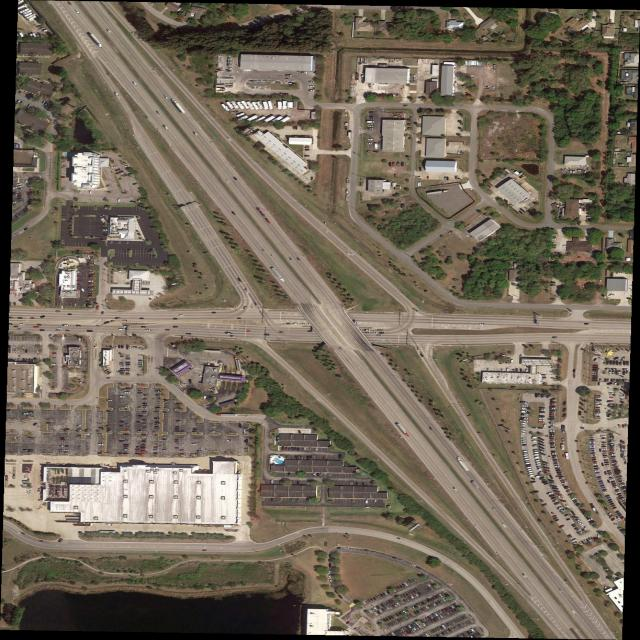large-vehicle: (271, 267, 287, 283), (171, 98, 186, 114), (456, 456, 470, 472), (89, 33, 103, 48), (396, 423, 410, 437), (426, 190, 450, 196), (234, 356, 242, 372), (470, 480, 480, 488), (227, 529, 240, 533), (349, 132, 353, 140), (562, 425, 566, 433), (623, 451, 627, 457), (375, 143, 378, 150), (566, 453, 569, 460), (392, 162, 396, 167), (346, 189, 350, 194), (401, 162, 405, 167), (346, 195, 349, 201), (596, 399, 602, 402), (346, 179, 350, 183), (397, 162, 400, 167), (389, 162, 392, 167), (446, 142, 449, 147), (562, 439, 565, 444), (419, 167, 422, 171), (446, 177, 449, 180), (395, 174, 397, 178), (461, 151, 463, 155), (458, 151, 460, 155), (427, 176, 429, 179), (444, 177, 446, 180), (563, 454, 565, 457)
ship: (577, 169, 588, 174)
small-vehicle: (162, 125, 170, 131), (504, 169, 512, 174), (244, 288, 250, 294), (539, 451, 546, 456), (519, 174, 526, 179), (578, 406, 585, 411), (548, 421, 555, 426), (556, 493, 564, 497), (58, 538, 64, 543), (338, 594, 344, 599), (549, 474, 554, 480), (487, 182, 493, 187), (470, 628, 476, 633), (571, 609, 577, 614), (18, 27, 25, 31), (558, 496, 565, 500), (539, 449, 546, 453), (558, 525, 565, 529), (572, 515, 579, 519), (577, 522, 584, 526), (566, 308, 573, 312), (538, 446, 545, 450), (538, 440, 545, 444), (538, 437, 545, 441), (193, 131, 198, 136), (233, 176, 238, 181), (256, 207, 261, 212), (237, 277, 242, 282), (254, 303, 259, 308), (381, 608, 386, 613), (369, 609, 374, 614), (378, 604, 383, 609), (391, 599, 396, 604), (439, 593, 444, 598), (453, 487, 458, 492), (410, 590, 415, 595), (380, 593, 385, 598), (164, 95, 169, 100), (75, 9, 80, 14), (565, 504, 570, 509), (571, 511, 576, 516), (21, 531, 26, 536), (338, 454, 343, 459), (616, 516, 621, 521), (486, 184, 491, 189), (411, 628, 416, 633), (431, 613, 436, 618), (425, 633, 430, 638), (562, 413, 567, 418), (620, 392, 625, 397), (413, 308, 419, 312), (104, 321, 110, 325), (132, 82, 138, 86), (67, 1, 73, 5), (32, 422, 38, 426), (544, 466, 550, 470), (543, 463, 549, 467), (587, 518, 593, 522), (570, 497, 576, 501), (542, 503, 548, 507), (539, 476, 545, 480), (557, 506, 563, 510), (601, 486, 607, 490), (560, 169, 566, 173), (503, 199, 509, 203), (493, 64, 497, 70), (522, 574, 528, 578), (558, 589, 564, 593), (422, 623, 428, 627), (401, 632, 407, 636), (579, 402, 585, 406), (616, 382, 622, 386), (607, 382, 613, 386), (369, 111, 376, 114), (171, 463, 178, 466), (123, 433, 130, 436), (544, 469, 551, 472), (548, 479, 555, 482), (549, 482, 556, 485), (542, 461, 549, 464), (571, 539, 578, 542), (525, 464, 532, 467), (535, 475, 542, 478), (560, 499, 567, 502), (575, 519, 582, 522), (524, 458, 531, 461), (538, 443, 545, 446), (592, 364, 599, 367), (227, 137, 232, 141), (232, 211, 237, 215), (266, 220, 271, 224), (259, 211, 264, 215), (288, 256, 293, 260), (243, 306, 248, 310), (324, 542, 328, 547), (374, 606, 378, 611), (390, 615, 395, 619), (379, 609, 384, 613), (403, 599, 408, 603), (376, 611, 381, 615), (374, 612, 379, 616), (371, 608, 376, 612), (402, 610, 407, 614), (391, 604, 396, 608), (413, 594, 418, 598), (408, 596, 413, 600), (411, 595, 416, 599), (396, 602, 401, 606), (433, 602, 437, 607), (401, 616, 406, 620), (413, 611, 418, 615), (418, 609, 423, 613), (420, 608, 425, 612), (423, 607, 428, 611), (398, 612, 403, 616), (437, 600, 442, 604), (442, 598, 447, 602), (436, 595, 441, 599), (414, 605, 419, 609), (412, 606, 417, 610), (400, 595, 405, 599), (403, 594, 408, 598), (334, 590, 339, 594), (331, 585, 335, 590), (400, 558, 405, 562), (340, 348, 345, 352), (417, 577, 422, 581), (414, 578, 419, 582), (411, 579, 416, 583), (412, 589, 417, 593), (430, 586, 434, 591), (382, 592, 387, 596), (385, 591, 389, 596), (409, 580, 414, 584), (88, 336, 93, 340), (119, 170, 124, 174), (156, 111, 161, 115), (44, 102, 49, 106), (27, 104, 31, 109), (16, 100, 21, 104), (106, 29, 111, 33), (15, 215, 20, 219), (23, 209, 28, 213), (200, 395, 205, 399), (392, 621, 397, 625), (592, 508, 597, 512), (604, 506, 608, 511), (580, 508, 585, 512), (589, 520, 594, 524), (566, 489, 571, 493), (390, 622, 395, 626), (588, 537, 592, 542), (583, 540, 588, 544), (502, 524, 507, 528), (492, 507, 497, 511), (551, 496, 556, 500), (573, 525, 578, 529), (345, 126, 349, 131), (224, 365, 228, 370), (81, 287, 85, 292), (565, 169, 570, 173), (520, 208, 525, 212), (529, 204, 534, 208), (509, 204, 514, 208), (519, 201, 524, 205), (502, 172, 507, 176), (498, 175, 503, 179), (510, 359, 514, 364), (505, 359, 509, 364), (582, 207, 586, 212), (404, 631, 408, 636), (427, 616, 432, 620), (422, 618, 427, 622), (418, 625, 423, 629), (413, 627, 418, 631), (406, 630, 411, 634), (447, 628, 452, 632), (400, 628, 405, 632), (391, 632, 396, 636), (434, 613, 439, 617), (437, 612, 442, 616), (462, 622, 467, 626), (430, 631, 435, 635), (435, 628, 440, 632), (437, 627, 442, 631), (442, 625, 447, 629), (461, 616, 466, 620), (437, 616, 442, 620), (442, 613, 446, 618), (449, 611, 454, 615), (453, 604, 458, 608), (446, 607, 451, 611), (441, 609, 446, 613), (579, 397, 584, 401), (563, 401, 567, 406), (620, 400, 625, 404), (617, 424, 622, 428), (625, 348, 630, 352), (620, 348, 625, 352), (616, 348, 621, 352), (621, 357, 626, 361), (593, 358, 598, 362), (619, 395, 624, 399), (304, 155, 310, 158), (246, 330, 252, 333), (411, 564, 417, 567), (40, 315, 46, 318), (115, 169, 121, 172), (192, 443, 198, 446), (107, 429, 113, 432), (105, 452, 111, 455), (155, 390, 161, 393), (64, 428, 70, 431), (551, 485, 557, 488), (554, 490, 560, 493), (614, 523, 620, 526), (618, 527, 624, 530), (568, 494, 574, 497), (556, 471, 562, 474), (534, 453, 540, 456), (530, 480, 536, 483), (528, 472, 534, 475), (526, 466, 532, 469), (552, 499, 558, 502), (542, 480, 548, 483), (548, 492, 554, 495), (549, 494, 555, 497), (554, 502, 560, 505), (559, 509, 565, 512), (612, 462, 618, 465), (613, 487, 619, 490), (616, 476, 622, 479), (39, 540, 45, 543), (619, 484, 625, 487), (592, 461, 598, 464), (598, 480, 604, 483), (602, 488, 608, 491), (604, 461, 610, 464), (551, 244, 557, 247), (414, 622, 420, 625), (548, 426, 554, 429), (521, 430, 527, 433), (523, 454, 529, 457), (532, 436, 538, 439), (619, 398, 625, 401), (613, 357, 619, 360), (573, 373, 576, 379), (550, 398, 556, 401), (381, 93, 385, 97), (262, 214, 266, 218), (377, 330, 385, 332), (367, 121, 375, 123), (296, 257, 300, 261), (395, 620, 399, 624), (262, 249, 266, 253), (388, 616, 392, 620), (386, 617, 390, 621), (383, 618, 387, 622), (384, 607, 388, 611), (376, 606, 380, 610), (386, 606, 390, 610), (394, 603, 398, 607), (389, 600, 393, 604), (396, 613, 400, 617), (401, 611, 405, 615), (399, 617, 403, 621), (405, 615, 409, 619), (407, 614, 411, 618), (409, 613, 413, 617), (428, 604, 432, 608), (435, 601, 439, 605), (440, 599, 444, 603), (445, 597, 449, 601), (417, 604, 421, 608), (394, 598, 398, 602), (346, 621, 350, 625), (420, 353, 424, 357), (417, 348, 421, 352), (354, 627, 358, 631), (418, 592, 422, 596), (427, 587, 431, 591), (363, 601, 367, 605), (375, 596, 379, 600), (387, 590, 391, 594), (399, 584, 403, 588), (407, 582, 411, 586), (47, 103, 51, 107), (42, 101, 46, 105), (20, 101, 24, 105), (115, 92, 119, 96), (397, 618, 401, 622), (608, 513, 612, 517), (609, 515, 613, 519), (586, 539, 590, 543), (581, 540, 585, 544), (565, 513, 569, 517), (620, 515, 624, 519), (356, 482, 360, 486), (86, 301, 94, 303), (306, 127, 310, 131), (619, 502, 623, 506), (622, 506, 626, 510), (597, 513, 601, 517), (604, 471, 608, 475), (519, 210, 523, 214), (462, 633, 466, 637), (467, 631, 471, 635), (521, 405, 529, 407), (521, 402, 529, 404), (569, 314, 573, 318), (441, 631, 445, 635), (433, 618, 437, 622), (430, 619, 434, 623), (416, 626, 420, 630), (408, 625, 412, 629), (403, 627, 407, 631), (398, 629, 402, 633), (388, 623, 392, 627), (430, 615, 434, 619), (432, 630, 436, 634), (447, 623, 451, 627), (435, 617, 439, 621), (446, 611, 450, 615), (454, 608, 458, 612), (444, 608, 448, 612), (613, 382, 617, 386), (376, 93, 379, 98), (379, 93, 382, 98), (298, 455, 301, 460), (271, 480, 274, 485), (307, 481, 310, 486), (199, 381, 204, 384), (208, 363, 211, 368), (65, 445, 70, 448), (393, 615, 398, 618), (381, 604, 386, 607), (389, 606, 394, 609), (425, 606, 430, 609), (433, 596, 438, 599), (442, 593, 447, 596), (396, 537, 401, 540), (406, 593, 411, 596), (427, 584, 432, 587), (367, 599, 372, 602), (394, 587, 399, 590), (126, 345, 129, 350), (28, 358, 31, 363), (124, 165, 129, 168), (87, 255, 90, 260), (17, 195, 22, 198), (18, 185, 23, 188), (175, 447, 180, 450), (85, 429, 90, 432), (204, 395, 207, 400), (135, 448, 140, 451), (189, 379, 192, 384), (28, 436, 33, 439), (609, 19, 612, 24), (582, 511, 587, 514), (574, 501, 579, 504), (572, 499, 577, 502), (565, 488, 570, 491), (558, 473, 563, 476), (573, 542, 578, 545), (568, 536, 573, 539), (553, 517, 558, 520), (552, 515, 557, 518), (540, 499, 545, 502), (531, 477, 536, 480), (577, 531, 582, 534), (544, 482, 549, 485), (577, 529, 582, 532), (566, 518, 571, 521), (571, 523, 576, 526), (616, 512, 621, 515), (618, 514, 623, 517), (614, 468, 619, 471), (616, 474, 621, 477), (618, 495, 623, 498), (617, 493, 622, 496), (616, 491, 621, 494), (615, 489, 620, 492), (362, 482, 365, 487), (83, 303, 86, 308), (612, 484, 617, 487), (600, 484, 605, 487), (597, 476, 602, 479), (599, 482, 604, 485), (603, 490, 608, 493), (609, 501, 614, 504), (611, 504, 616, 507), (609, 476, 614, 479), (607, 470, 612, 473), (602, 448, 607, 451), (599, 448, 602, 453), (590, 441, 595, 444), (590, 443, 595, 446), (524, 207, 529, 210), (524, 198, 529, 201), (499, 174, 504, 177), (469, 631, 474, 634), (507, 368, 510, 373), (520, 368, 523, 373), (500, 359, 503, 364), (501, 368, 504, 373), (425, 622, 430, 625), (412, 623, 417, 626), (389, 633, 394, 636), (460, 624, 465, 627), (524, 456, 529, 459), (521, 432, 526, 435), (544, 424, 547, 429), (523, 450, 528, 453), (623, 417, 628, 420), (609, 392, 614, 395), (606, 360, 609, 365), (616, 360, 619, 365), (541, 393, 544, 398), (615, 370, 618, 375), (612, 370, 615, 375), (609, 370, 612, 375), (286, 75, 293, 77), (356, 329, 363, 331), (87, 330, 94, 332), (124, 326, 131, 328), (119, 328, 126, 330), (33, 326, 40, 328), (88, 272, 95, 274), (63, 433, 70, 435), (552, 488, 559, 490), (614, 470, 621, 472), (615, 472, 622, 474), (161, 420, 168, 422), (521, 408, 528, 410), (549, 408, 556, 410), (538, 420, 545, 422), (365, 332, 371, 334), (309, 81, 315, 83), (487, 62, 490, 66), (369, 83, 372, 87), (393, 94, 396, 98), (293, 126, 296, 130), (295, 126, 298, 130), (309, 90, 315, 92), (265, 218, 269, 221), (373, 93, 376, 97), (367, 143, 373, 145), (368, 139, 374, 141), (368, 128, 374, 130), (368, 125, 374, 127), (369, 118, 375, 120), (369, 116, 375, 118), (291, 499, 295, 502), (295, 456, 298, 460), (313, 473, 316, 477), (288, 473, 291, 477), (297, 498, 300, 502), (199, 375, 205, 377), (212, 364, 215, 368), (58, 449, 64, 451), (301, 456, 304, 460), (323, 457, 326, 461), (301, 323, 307, 325), (264, 334, 270, 336), (225, 332, 231, 334), (239, 424, 242, 428), (282, 446, 285, 450), (285, 446, 288, 450), (304, 447, 307, 451), (377, 335, 383, 337), (406, 598, 409, 602), (379, 332, 385, 334), (416, 610, 420, 613), (430, 604, 434, 607), (432, 597, 436, 600), (420, 602, 423, 606), (330, 580, 333, 584), (329, 575, 332, 579), (329, 554, 332, 558), (417, 566, 421, 569), (365, 549, 369, 552), (344, 547, 350, 549), (429, 427, 433, 430), (408, 592, 412, 595), (415, 589, 419, 592), (416, 593, 419, 597), (425, 589, 429, 592), (370, 598, 374, 601), (373, 597, 377, 600), (377, 595, 381, 598), (397, 586, 401, 589), (402, 584, 406, 587), (405, 583, 409, 586), (58, 445, 64, 447), (96, 306, 99, 310), (178, 315, 184, 317), (115, 317, 121, 319), (141, 326, 147, 328), (122, 320, 128, 322), (65, 330, 71, 332), (49, 334, 52, 338), (14, 302, 17, 306), (51, 364, 57, 366), (31, 359, 34, 363), (17, 358, 20, 362), (37, 350, 40, 354), (25, 349, 28, 353), (14, 349, 17, 353), (186, 333, 192, 335), (132, 183, 138, 185), (118, 199, 121, 203), (90, 190, 93, 194), (88, 284, 94, 286), (88, 281, 94, 283), (76, 271, 82, 273), (25, 208, 29, 211), (29, 187, 35, 189), (29, 185, 35, 187), (17, 192, 21, 195), (77, 435, 83, 437), (137, 430, 143, 432), (120, 425, 126, 427), (141, 419, 147, 421), (153, 449, 159, 451), (142, 423, 148, 425), (210, 431, 216, 433), (192, 454, 198, 456), (197, 450, 203, 452), (141, 434, 147, 436), (77, 429, 83, 431), (85, 433, 91, 435), (98, 433, 104, 435), (106, 425, 112, 427), (98, 444, 104, 446), (141, 444, 147, 446), (124, 444, 130, 446), (123, 446, 129, 448), (137, 406, 143, 408), (142, 402, 148, 404), (121, 390, 127, 392), (137, 390, 143, 392), (107, 400, 113, 402), (119, 362, 125, 364), (119, 364, 125, 366), (120, 366, 126, 368), (155, 407, 161, 409), (154, 426, 160, 428), (154, 417, 160, 419), (176, 403, 182, 405), (46, 422, 52, 424), (142, 411, 148, 413), (154, 411, 160, 413), (23, 413, 29, 415), (27, 415, 33, 417), (28, 411, 34, 413), (549, 440, 555, 442), (549, 438, 555, 440), (549, 436, 555, 438), (549, 434, 555, 436), (549, 430, 555, 432), (532, 440, 538, 442), (534, 451, 540, 453), (611, 518, 615, 521), (576, 503, 580, 506), (559, 478, 565, 480), (555, 519, 559, 522), (590, 537, 594, 540), (585, 527, 588, 531), (551, 512, 555, 515), (529, 475, 535, 477), (527, 471, 533, 473), (527, 469, 533, 471), (534, 457, 540, 459), (535, 460, 541, 462), (535, 462, 541, 464), (536, 464, 542, 466), (537, 468, 543, 470), (575, 527, 579, 530), (610, 447, 614, 450), (622, 424, 625, 428), (620, 497, 624, 500), (77, 299, 80, 303), (74, 303, 77, 307), (314, 126, 317, 130), (620, 449, 623, 453), (593, 466, 599, 468), (594, 470, 600, 472), (596, 472, 600, 475), (598, 478, 602, 481), (590, 450, 596, 452), (603, 459, 609, 461), (603, 457, 609, 459), (602, 453, 608, 455), (602, 451, 608, 453), (601, 446, 607, 448), (601, 435, 607, 437), (589, 437, 595, 439), (590, 439, 596, 441), (524, 461, 530, 463), (492, 86, 495, 90), (477, 632, 481, 635), (475, 633, 479, 636), (525, 369, 528, 373), (626, 297, 632, 299), (609, 294, 615, 296), (550, 284, 556, 286), (444, 630, 447, 634), (446, 630, 450, 633), (425, 617, 429, 620), (420, 620, 424, 623), (406, 626, 410, 629), (411, 624, 415, 627), (396, 630, 400, 633), (451, 628, 455, 631), (453, 627, 457, 630), (440, 626, 444, 629), (452, 621, 456, 624), (440, 615, 444, 618), (521, 411, 527, 413), (538, 427, 544, 429), (563, 408, 566, 412), (549, 418, 555, 420), (549, 416, 555, 418), (549, 412, 555, 414), (549, 410, 555, 412), (523, 452, 529, 454), (620, 404, 623, 408), (607, 400, 613, 402), (549, 406, 555, 408), (549, 403, 555, 405), (593, 367, 599, 369), (623, 361, 626, 365), (619, 361, 622, 365), (546, 394, 549, 398), (573, 369, 576, 373), (550, 401, 556, 403), (538, 393, 541, 397), (539, 417, 545, 419), (539, 415, 545, 417), (593, 369, 599, 371), (592, 373, 598, 375), (592, 375, 598, 377), (620, 389, 624, 392), (622, 368, 628, 370), (605, 368, 611, 370), (616, 379, 619, 383), (592, 379, 598, 381), (592, 377, 598, 379), (485, 89, 490, 91), (485, 86, 490, 88), (305, 149, 310, 151), (306, 160, 311, 162), (480, 323, 485, 325), (368, 123, 373, 125), (280, 480, 282, 485), (64, 451, 69, 453), (212, 312, 217, 314), (307, 330, 312, 332), (293, 323, 298, 325), (279, 331, 284, 333), (307, 455, 309, 460), (230, 335, 235, 337), (203, 549, 208, 551), (373, 332, 378, 334), (392, 557, 397, 559), (329, 563, 331, 568), (336, 547, 341, 549), (366, 499, 368, 504), (60, 439, 65, 441), (96, 325, 101, 327), (76, 325, 81, 327), (40, 329, 45, 331), (56, 330, 61, 332), (58, 327, 63, 329), (37, 324, 42, 326), (18, 328, 23, 330), (30, 317, 35, 319), (126, 360, 131, 362), (173, 318, 178, 320), (131, 347, 136, 349), (53, 357, 58, 359), (173, 326, 178, 328), (18, 317, 23, 319), (88, 295, 93, 297), (88, 293, 93, 295), (88, 291, 93, 293), (77, 284, 82, 286), (77, 280, 82, 282), (77, 273, 82, 275), (89, 274, 94, 276), (103, 229, 108, 231), (102, 227, 107, 229), (17, 198, 22, 200), (18, 183, 23, 185), (126, 364, 131, 366), (143, 428, 148, 430), (124, 430, 129, 432), (125, 424, 130, 426), (125, 417, 130, 419), (141, 451, 146, 453), (141, 453, 146, 455), (153, 452, 158, 454), (179, 453, 184, 455), (142, 436, 147, 438), (154, 434, 159, 436), (227, 440, 232, 442), (198, 448, 203, 450), (142, 440, 147, 442), (119, 440, 124, 442), (141, 449, 146, 451), (136, 446, 141, 448), (136, 453, 141, 455), (193, 428, 198, 430), (162, 439, 167, 441), (120, 396, 125, 398), (143, 407, 148, 409), (142, 404, 147, 406), (144, 394, 149, 396), (138, 392, 143, 394), (139, 388, 144, 390), (125, 406, 130, 408), (125, 404, 130, 406), (138, 364, 143, 366), (138, 362, 143, 364), (120, 368, 125, 370), (119, 370, 124, 372), (120, 372, 125, 374), (155, 394, 160, 396), (164, 407, 169, 409), (154, 428, 159, 430), (155, 423, 160, 425), (155, 422, 160, 424), (175, 430, 180, 432), (181, 437, 186, 439), (175, 428, 180, 430), (143, 413, 148, 415), (551, 453, 556, 455), (550, 442, 555, 444), (533, 445, 538, 447), (554, 461, 559, 463), (612, 507, 617, 509), (554, 464, 559, 466), (564, 486, 569, 488), (558, 476, 563, 478), (556, 470, 561, 472), (555, 468, 560, 470), (554, 466, 559, 468), (533, 449, 538, 451), (533, 491, 538, 493), (598, 534, 600, 539), (537, 466, 542, 468), (615, 511, 620, 513), (609, 444, 614, 446), (614, 466, 619, 468), (611, 456, 616, 458), (609, 441, 614, 443), (609, 440, 614, 442), (609, 437, 614, 439), (596, 430, 601, 432), (617, 479, 622, 481), (621, 453, 623, 458), (621, 444, 623, 449), (618, 480, 623, 482), (610, 481, 615, 483), (591, 455, 596, 457), (592, 457, 597, 459), (592, 459, 597, 461), (593, 463, 598, 465), (594, 468, 599, 470), (605, 495, 610, 497), (606, 497, 611, 499), (608, 499, 613, 501), (591, 452, 596, 454), (590, 448, 595, 450), (590, 446, 595, 448), (610, 479, 615, 481), (608, 475, 613, 477), (605, 464, 610, 466), (603, 455, 608, 457), (602, 444, 607, 446), (602, 441, 607, 443), (602, 437, 607, 439), (596, 433, 601, 435), (552, 236, 557, 238), (550, 242, 555, 244), (551, 238, 556, 240), (542, 377, 547, 379), (541, 374, 546, 376), (506, 357, 511, 359), (551, 246, 556, 248), (553, 337, 558, 339), (584, 323, 589, 325), (551, 282, 556, 284), (596, 395, 601, 397), (533, 427, 538, 429), (521, 438, 526, 440), (521, 422, 526, 424), (539, 422, 544, 424), (596, 397, 601, 399), (618, 413, 623, 415), (522, 444, 527, 446), (522, 442, 527, 444), (609, 397, 614, 399), (609, 394, 614, 396), (607, 413, 612, 415), (596, 413, 601, 415), (596, 409, 601, 411), (596, 407, 601, 409), (613, 360, 615, 365), (610, 360, 612, 365), (540, 411, 545, 413), (540, 409, 545, 411), (593, 371, 598, 373), (626, 370, 628, 375), (623, 370, 625, 375), (619, 370, 621, 375), (612, 368, 617, 370), (390, 94, 393, 97), (310, 177, 313, 180), (306, 498, 309, 501), (291, 447, 294, 450), (118, 345, 121, 348), (579, 542, 582, 545), (625, 424, 628, 427), (620, 440, 623, 443), (608, 480, 611, 483), (591, 504, 594, 507), (601, 463, 604, 466), (559, 203, 562, 206), (394, 631, 397, 634), (452, 606, 455, 609), (439, 611, 442, 614), (604, 379, 607, 382), (385, 93, 387, 97), (388, 94, 390, 98), (397, 93, 399, 97), (305, 147, 309, 149), (318, 473, 320, 477), (271, 498, 273, 502), (237, 463, 241, 465), (59, 451, 63, 453), (238, 317, 242, 319), (286, 323, 290, 325), (289, 447, 291, 451), (309, 447, 311, 451), (329, 559, 331, 563), (372, 551, 376, 553), (375, 499, 377, 503), (487, 368, 489, 372), (61, 437, 65, 439), (14, 326, 18, 328), (126, 366, 130, 368), (126, 362, 130, 364), (126, 355, 130, 357), (124, 345, 126, 349), (166, 329, 170, 331), (23, 358, 25, 362), (26, 359, 28, 363), (113, 166, 117, 168), (106, 185, 110, 187), (80, 190, 82, 194), (24, 172, 28, 174), (126, 368, 130, 370), (139, 415, 143, 417), (137, 421, 141, 423), (175, 441, 179, 443), (98, 452, 102, 454), (141, 446, 145, 448), (136, 451, 140, 453), (175, 439, 179, 441), (162, 437, 166, 439), (139, 366, 143, 368), (181, 431, 185, 433), (175, 426, 179, 428), (176, 420, 180, 422), (552, 455, 556, 457), (551, 446, 555, 448), (551, 444, 555, 446), (553, 459, 557, 461), (553, 457, 557, 459), (562, 482, 566, 484), (567, 535, 571, 537), (542, 479, 546, 481), (613, 464, 617, 466), (612, 460, 616, 462), (612, 458, 616, 460), (610, 445, 614, 447), (610, 435, 614, 437), (609, 433, 613, 435), (310, 126, 312, 130), (625, 461, 627, 465), (624, 457, 626, 461), (623, 446, 625, 450), (612, 483, 616, 485), (610, 503, 614, 505), (608, 472, 612, 474), (516, 368, 518, 372), (520, 354, 522, 358), (579, 411, 581, 415), (521, 425, 525, 427), (597, 402, 601, 404), (597, 405, 601, 407), (607, 415, 611, 417), (596, 416, 600, 418), (627, 361, 629, 365), (544, 394, 546, 398), (535, 393, 537, 397), (549, 394, 551, 398), (622, 379, 624, 383), (598, 382, 600, 386), (87, 289, 94, 290), (309, 86, 315, 87), (287, 456, 289, 459), (320, 473, 322, 476), (298, 482, 300, 485), (304, 457, 306, 460), (64, 450, 70, 451), (295, 447, 297, 450), (297, 448, 299, 451), (316, 448, 318, 451), (365, 330, 371, 331), (329, 571, 331, 574), (102, 311, 104, 314), (63, 325, 69, 326), (145, 330, 151, 331), (129, 345, 131, 348), (121, 345, 123, 348), (115, 345, 117, 348), (23, 347, 25, 350), (88, 283, 94, 284), (77, 276, 83, 277), (26, 180, 28, 183), (119, 421, 125, 422), (98, 423, 104, 424), (123, 453, 129, 454), (125, 392, 131, 393), (76, 425, 82, 426), (175, 412, 181, 413), (163, 412, 169, 413), (549, 432, 555, 433), (610, 454, 616, 455), (623, 441, 625, 444), (440, 633, 442, 636), (522, 414, 528, 415), (523, 418, 529, 419), (549, 414, 555, 415), (521, 441, 527, 442), (595, 412, 601, 413), (620, 379, 622, 382), (614, 379, 616, 382), (611, 379, 613, 382), (608, 379, 610, 382), (600, 379, 602, 382), (245, 449, 250, 450), (140, 318, 145, 319), (110, 321, 115, 322), (20, 324, 25, 325), (120, 356, 125, 357), (52, 353, 57, 354), (88, 287, 93, 288), (154, 447, 159, 448), (180, 450, 185, 451), (162, 450, 167, 451), (125, 371, 130, 372), (125, 441, 130, 442), (106, 428, 111, 429), (192, 431, 197, 432), (118, 453, 123, 454), (124, 449, 129, 450), (143, 399, 148, 400), (126, 388, 131, 389), (138, 360, 143, 361), (164, 401, 169, 402), (610, 452, 615, 453), (525, 463, 530, 464), (524, 421, 529, 422), (540, 407, 545, 408), (68, 314, 72, 315), (56, 311, 60, 312), (126, 358, 130, 359), (126, 373, 130, 374), (551, 451, 555, 452), (610, 450, 614, 451)
